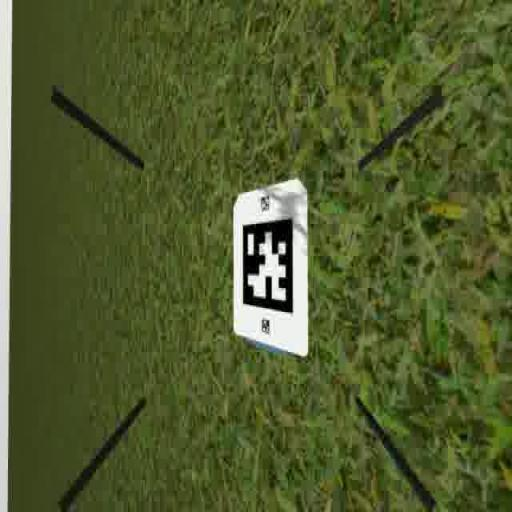UGV: (229, 181, 311, 362)
